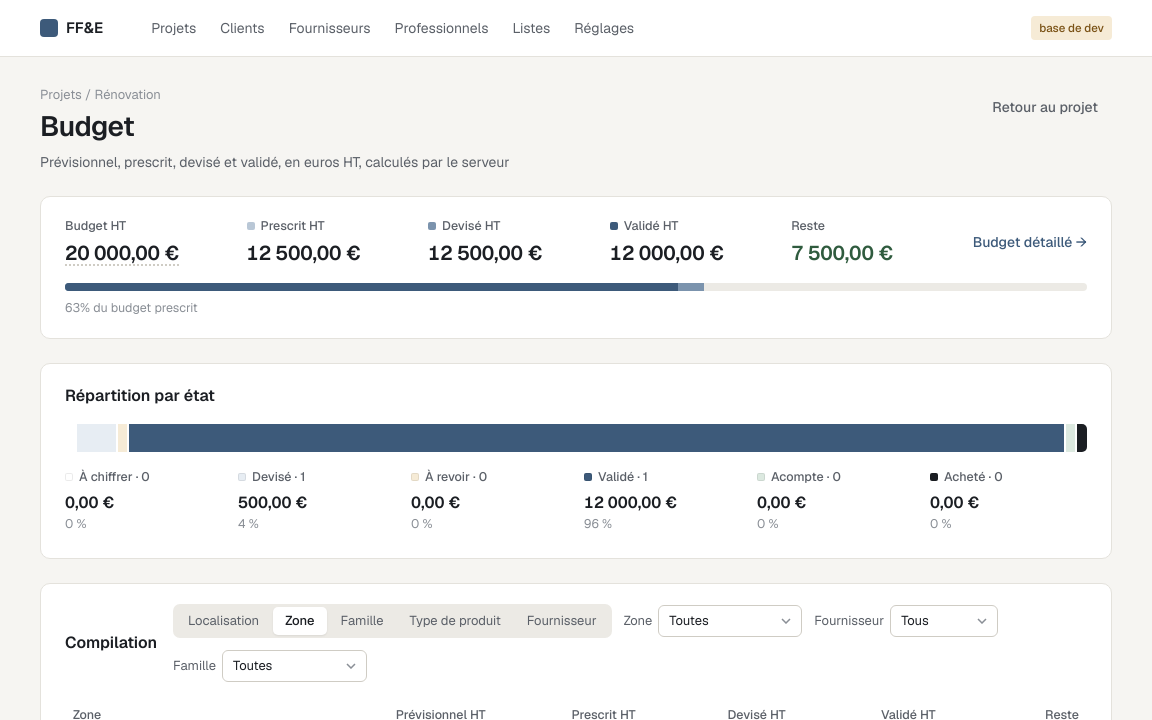
Test: page Budget › filtrer par zone restreint les montants et bloque l’édition du prévisionnel
The width and height of the screenshot is (1152, 720).
Select "Zones communes" in the dropdown named "Filtrer par zone": (730, 621) [658, 605, 802, 637]
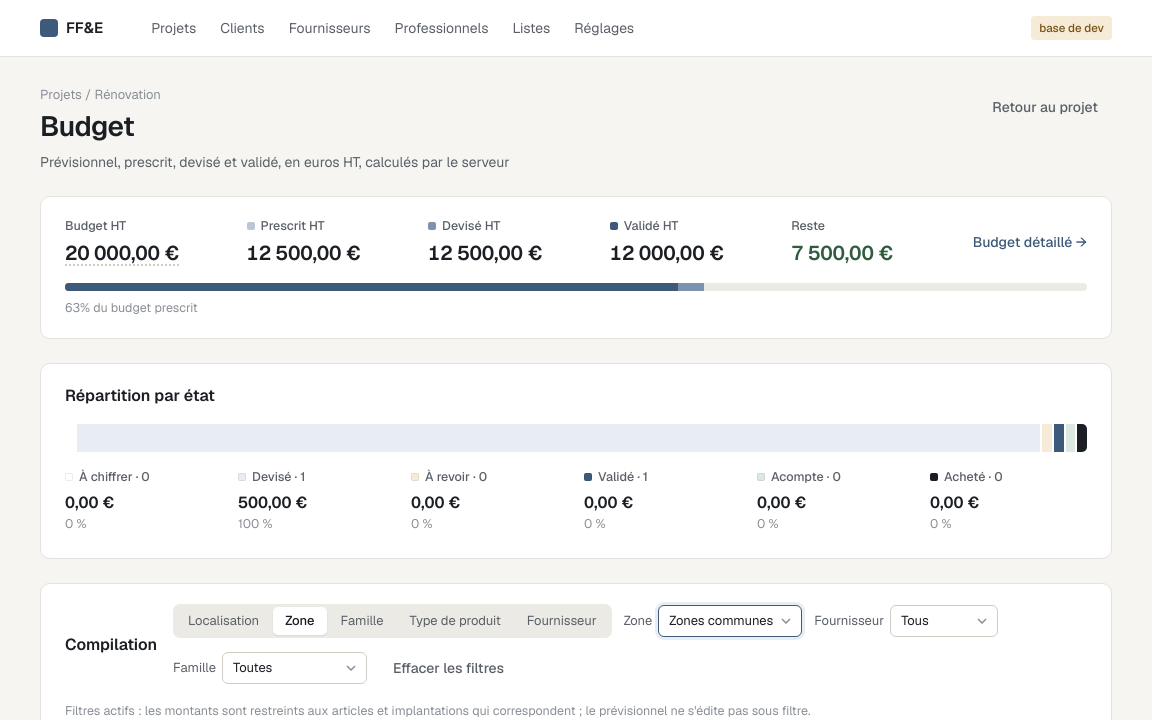
Result: the text "Filtres actifs" is shown at [65, 702, 811, 719]
